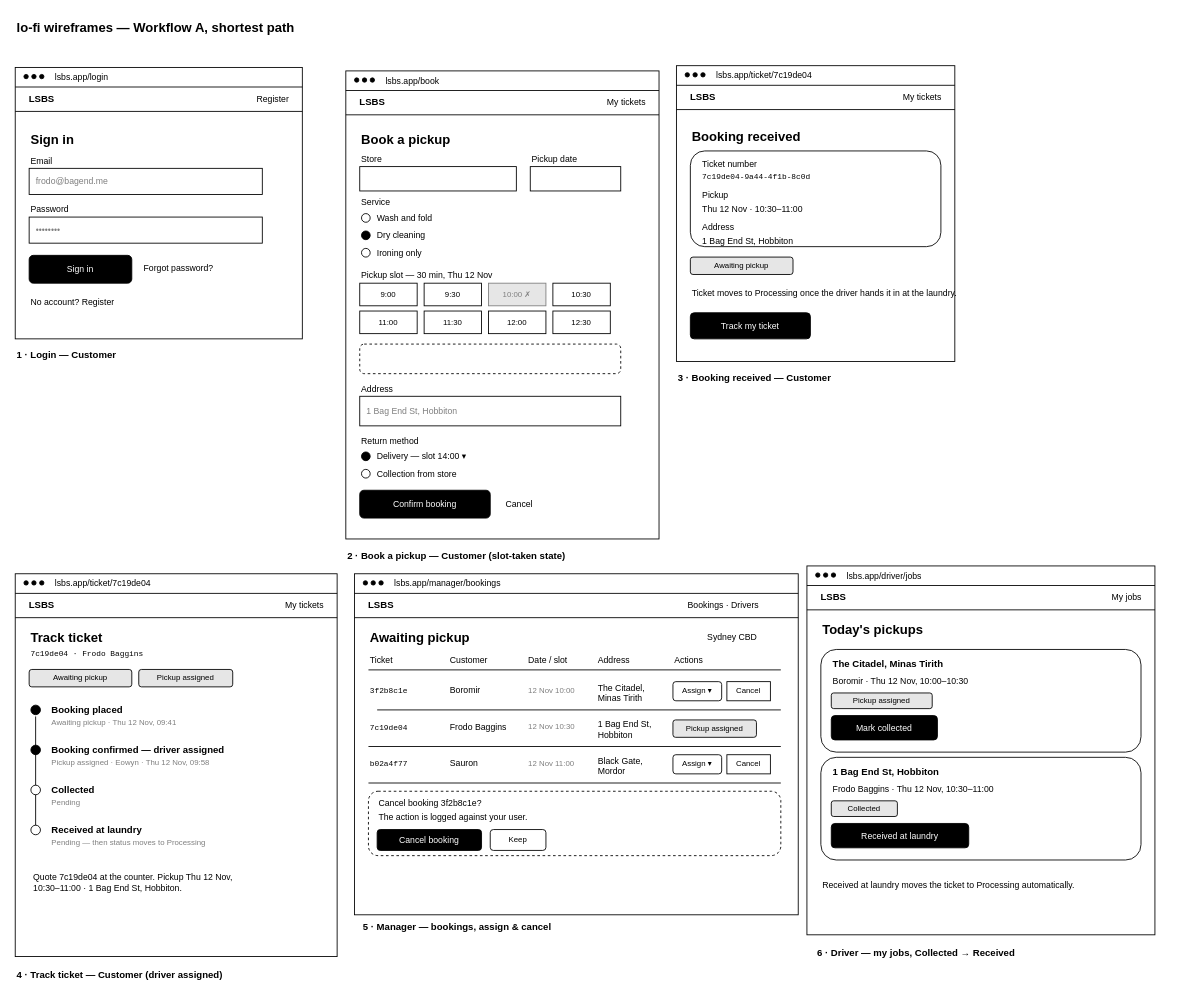
The diagram is 1179 pixels wide and 997 high, and some of its shapes have lost their labels. The shapes that lost their labels are listed below. From the top down, each one's box as (x1, y1, x2, y2) in pixels, then its label:
(359, 166, 516, 191): Sydney CBD ▾
(529, 166, 621, 191): Thu 12 Nov ▾
(359, 343, 621, 374): ! 10:00 on Thu 12 Nov was just taken — choose another slot
